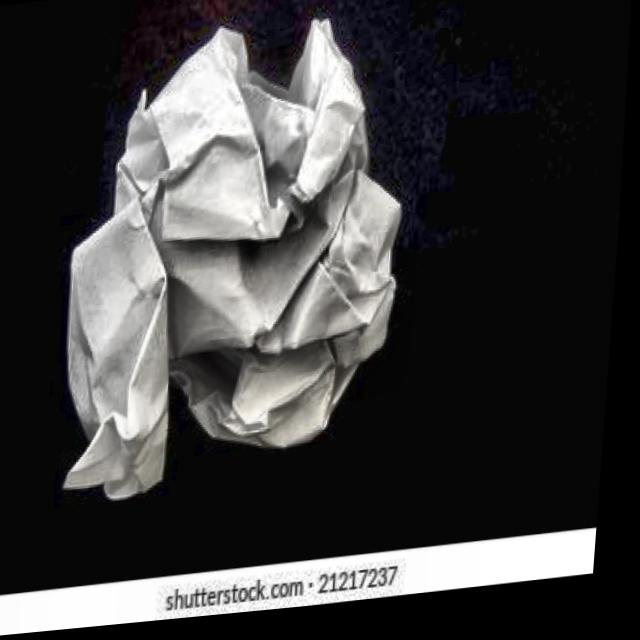Paper: (49, 0, 436, 529)
